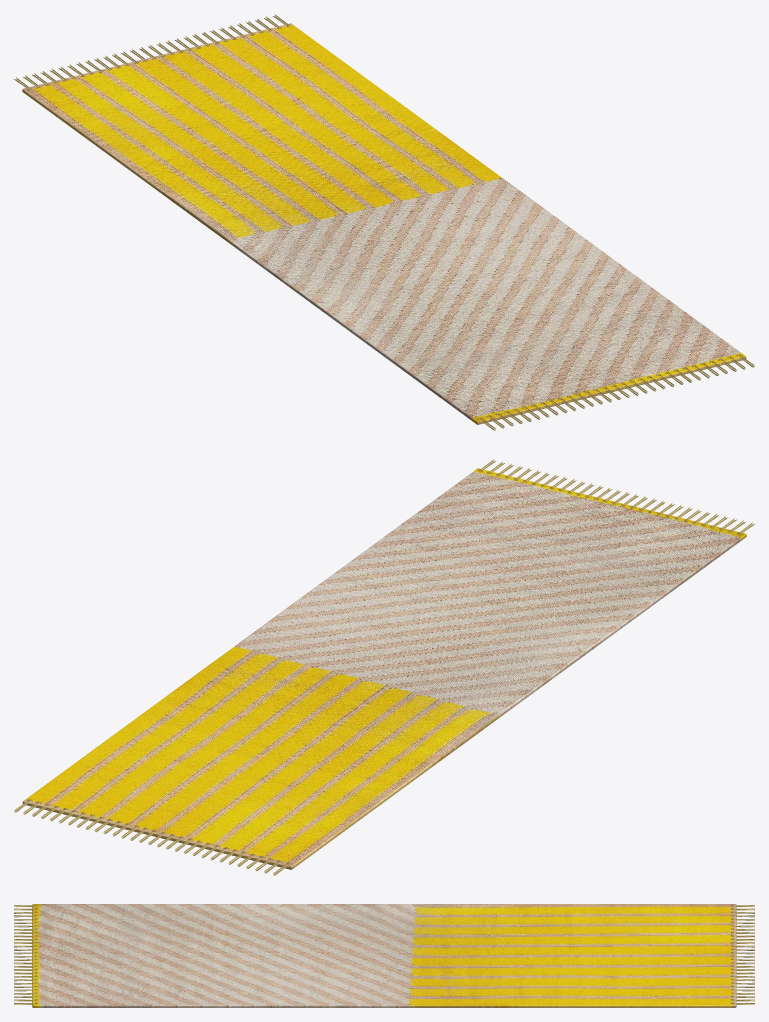
The picture shows the model from 3 angles, top to bottom: view 1: azimuth 30°, elevation 25°; view 2: azimuth 150°, elevation 25°; view 3: azimuth 270°, elevation 25°; orthographic projection. The views are drawn at different scales.
Visible parts, largest first — view 1: 00615126_00615126_cn; view 2: 00615126_00615126_cn; view 3: 00615126_00615126_cn.
Part boxes in pixels (bbox=[...]): 00615126_00615126_cn: bbox=[14, 14, 754, 430]; 00615126_00615126_cn: bbox=[14, 459, 754, 875]; 00615126_00615126_cn: bbox=[14, 904, 754, 1007].
Size of the model in its own units: 0.6846 by 0.0115 by 2.11.
Materials: 2 (1 with a texture image).
